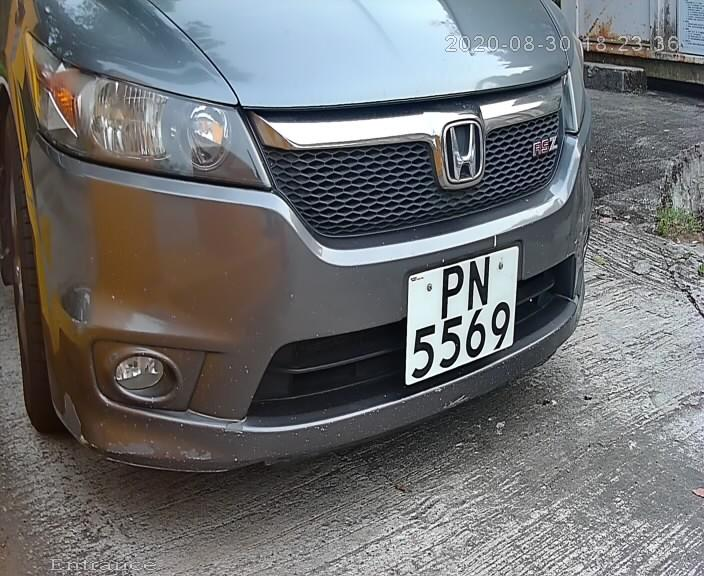License Plate: (393, 237, 525, 394)
